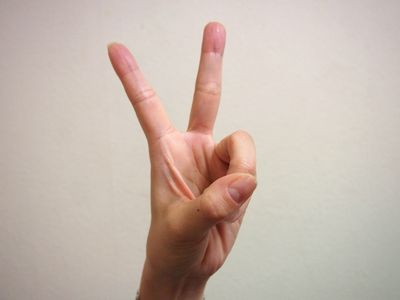hand: (104, 21, 259, 280)
